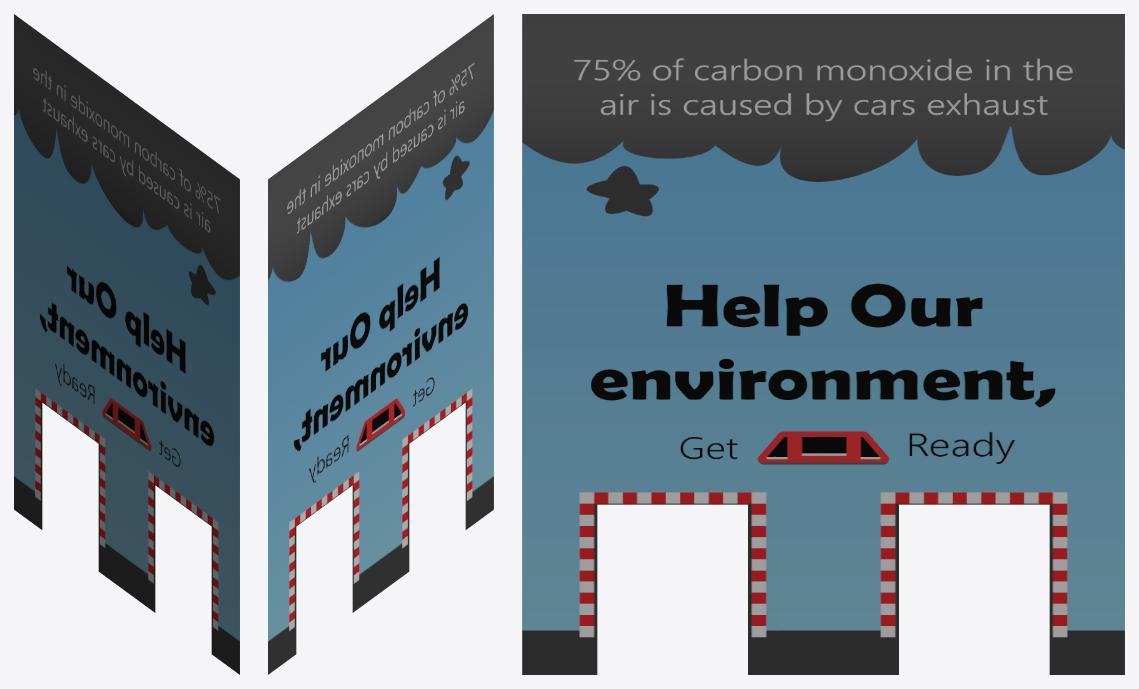
The model's file is Rail Poster.fbx.
The picture shows the model from 3 angles, left to right: view 1: azimuth 30°, elevation 25°; view 2: azimuth 150°, elevation 25°; view 3: azimuth 270°, elevation 25°; orthographic projection. The views are drawn at different scales.
Visible parts, largest first — view 1: Cube; view 2: Cube; view 3: Cube.
Boxes of the visible parts, x1,y1,x2,y2 form: Cube: (14, 14, 239, 674); Cube: (268, 14, 493, 674); Cube: (522, 14, 1124, 674).
Size of the model in its own units: 0.000113 by 242 by 200.
